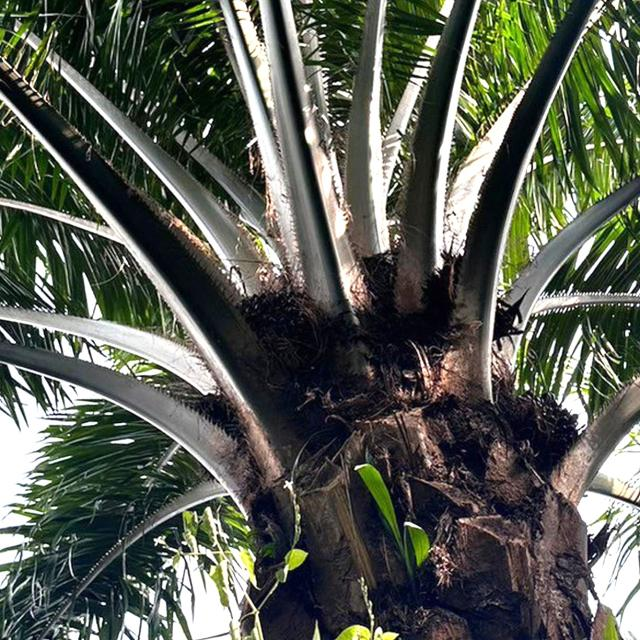unripe: (219, 284, 342, 407), (495, 377, 593, 469)
